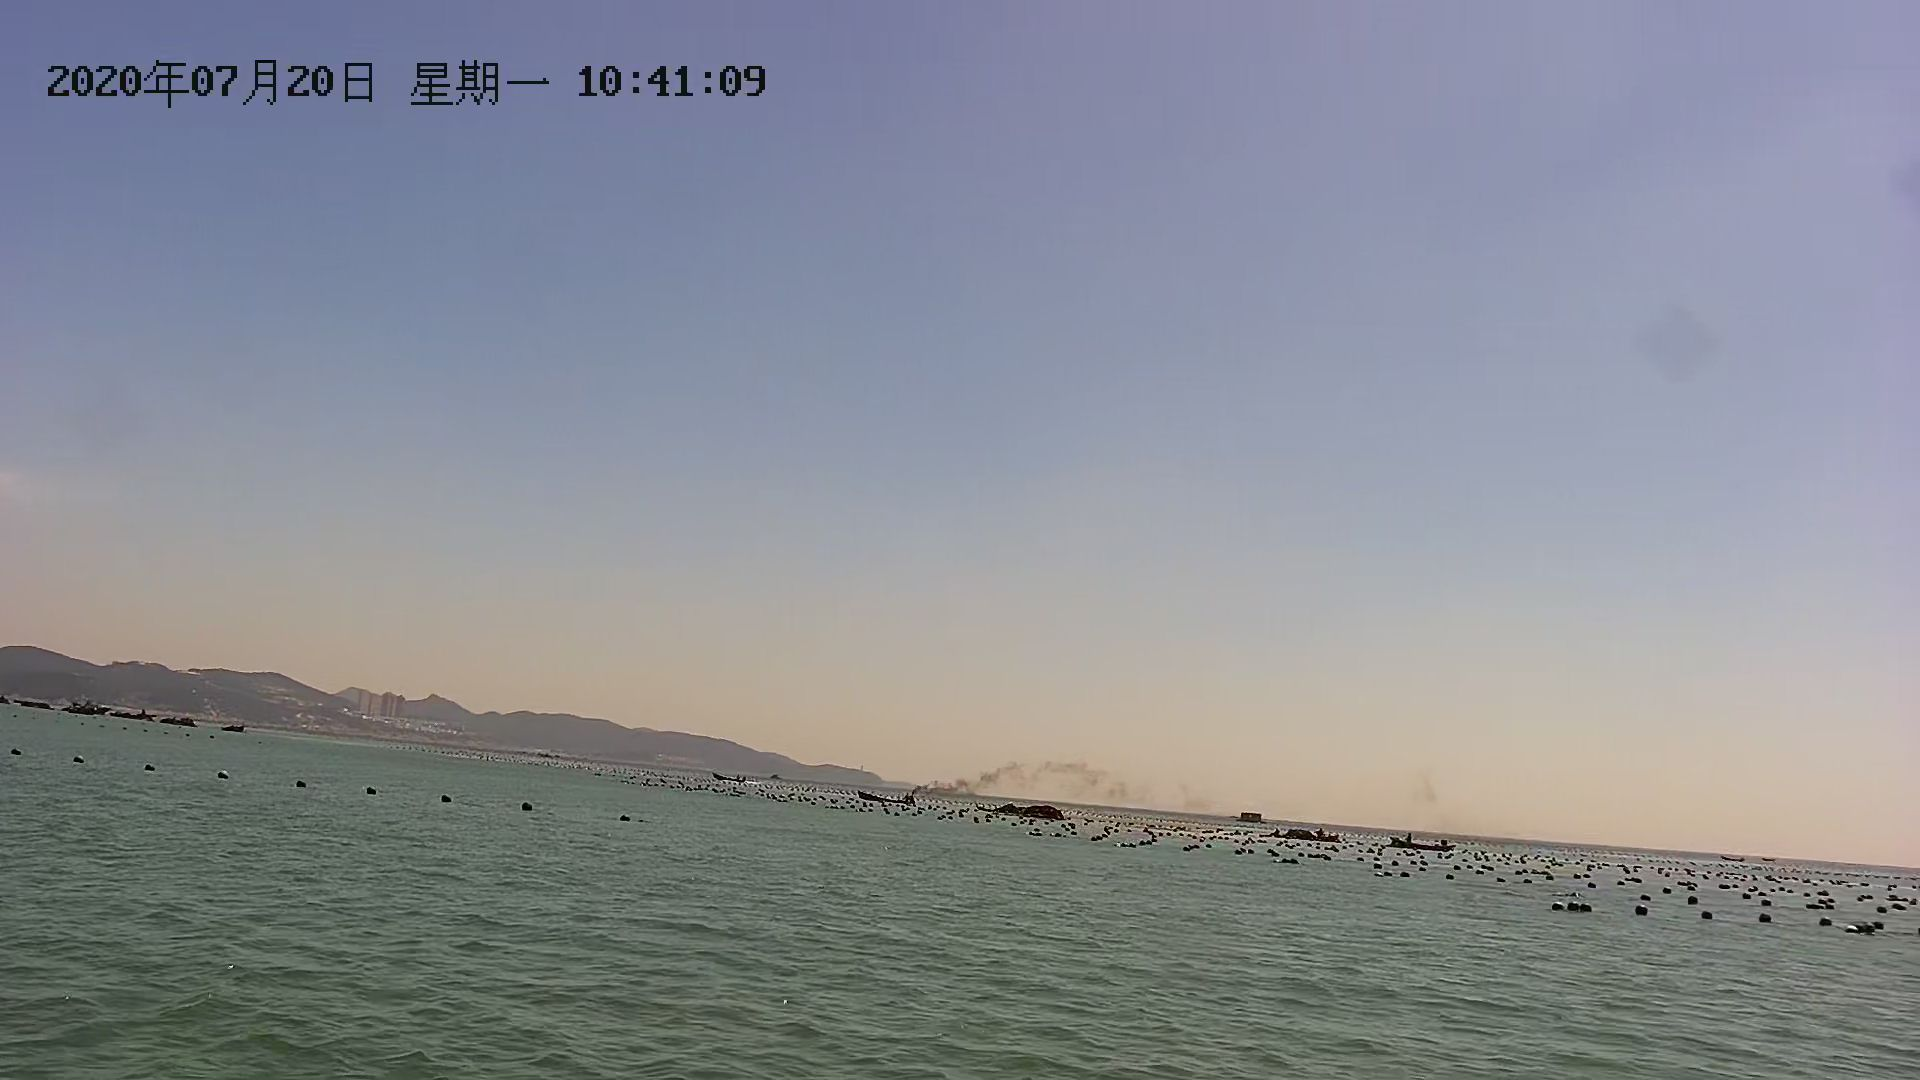ball: (1564, 894, 1586, 915), (1696, 905, 1720, 924), (1547, 893, 1567, 916), (1755, 906, 1778, 926), (1818, 915, 1840, 932), (1580, 895, 1596, 918), (1634, 902, 1654, 916)
boat: (1390, 832, 1464, 855), (855, 787, 916, 808)
rubbish: (996, 803, 1069, 823), (1280, 825, 1345, 843)
